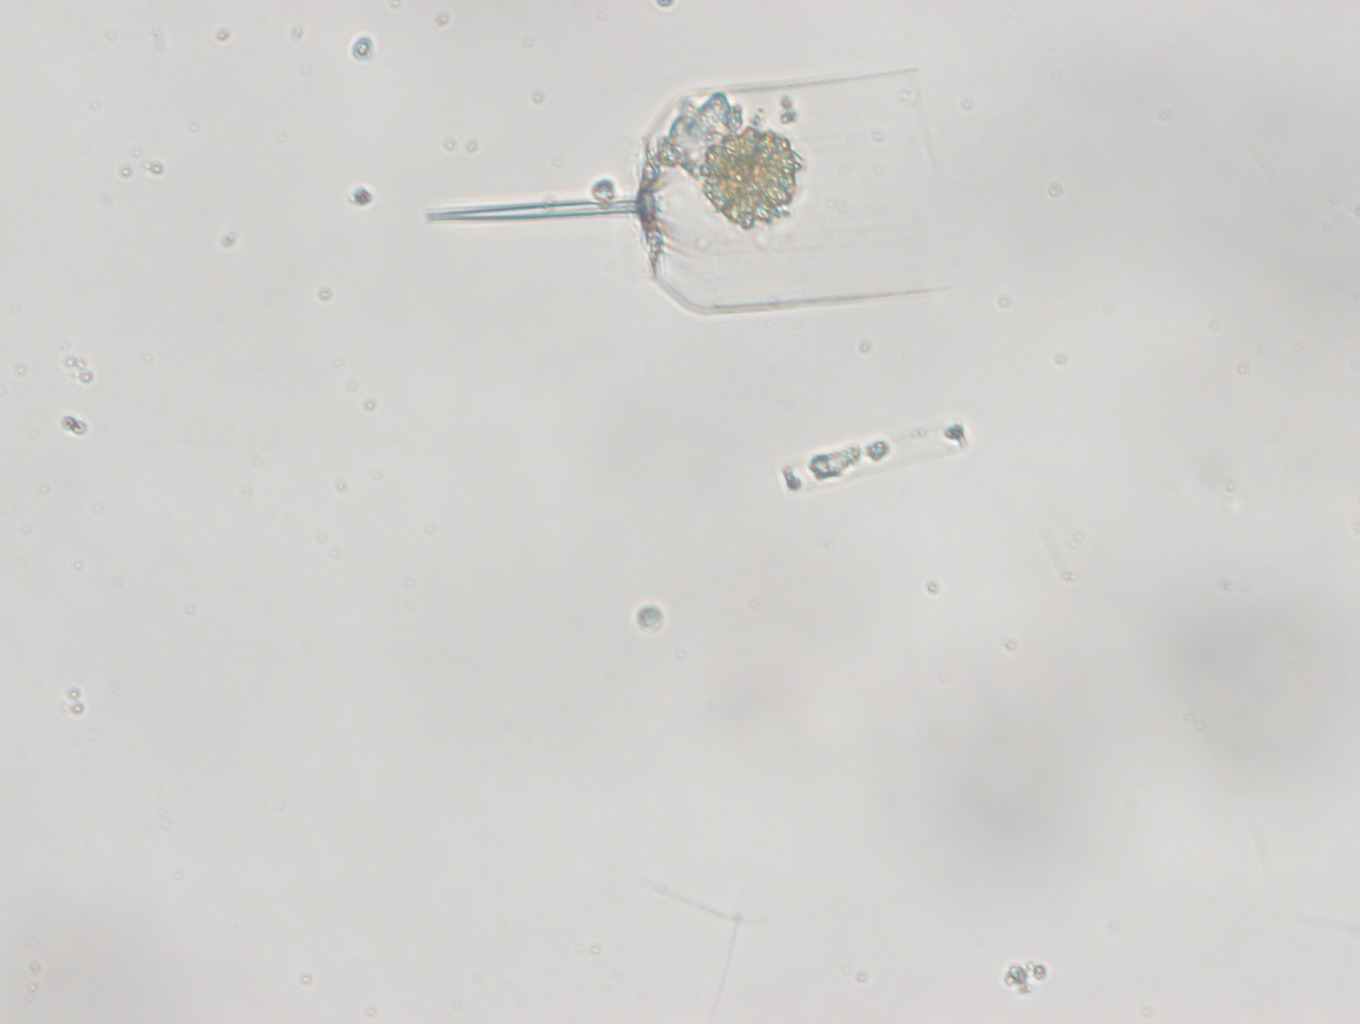ditylum: (419, 65, 956, 321)
skeletonema: (771, 422, 968, 498)
